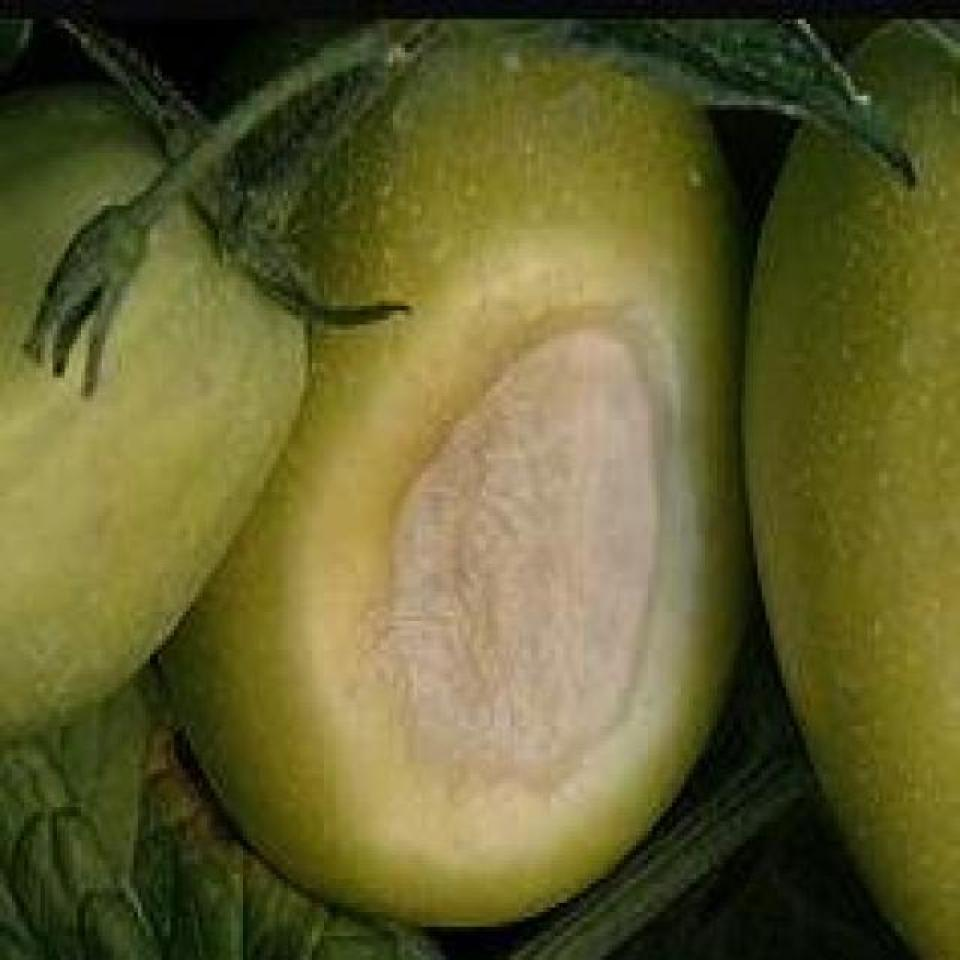Sunscald: (324, 241, 669, 824)
